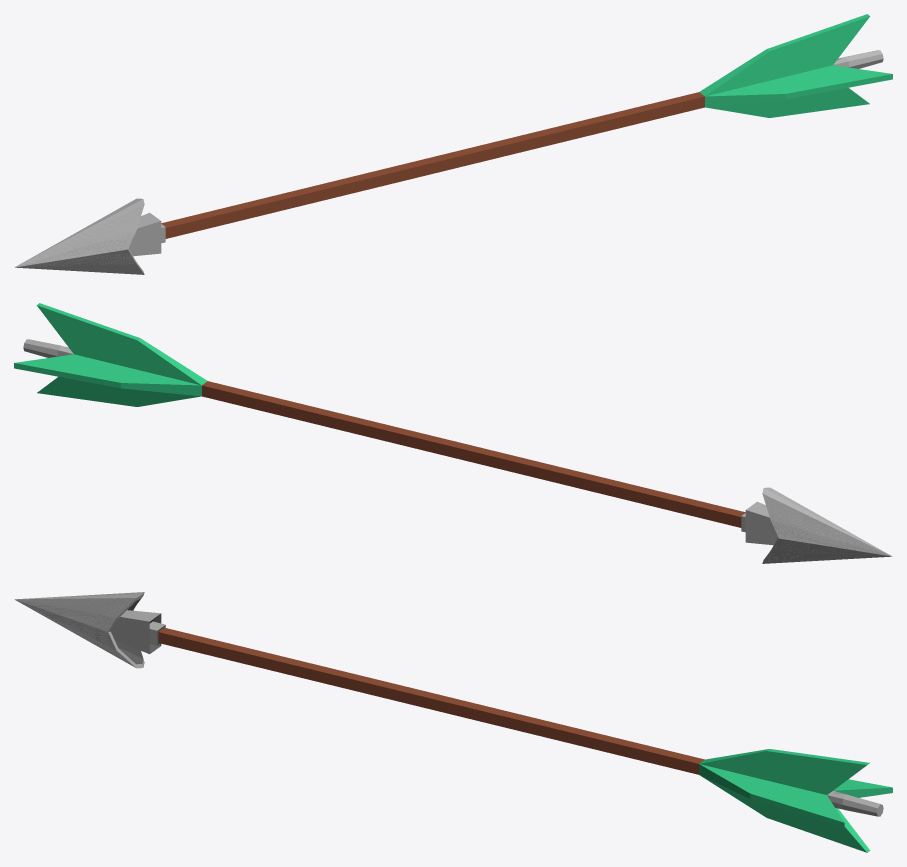
Rendered from ArrowFBX.fbx.
3 views of the same model, one above another, from view 1: azimuth 30°, elevation 25°; view 2: azimuth 150°, elevation 25°; view 3: azimuth 330°, elevation 25° (orthographic).
Parts seen in each view (by area): view 1: Cube; view 2: Cube; view 3: Cube.
Part boxes in pixels (x1=…): Cube: x1=14, y1=14, x2=892, y2=274; Cube: x1=14, y1=303, x2=892, y2=563; Cube: x1=14, y1=592, x2=892, y2=852.
Size of the model in its own units: 827 by 80.12 by 79.73.
